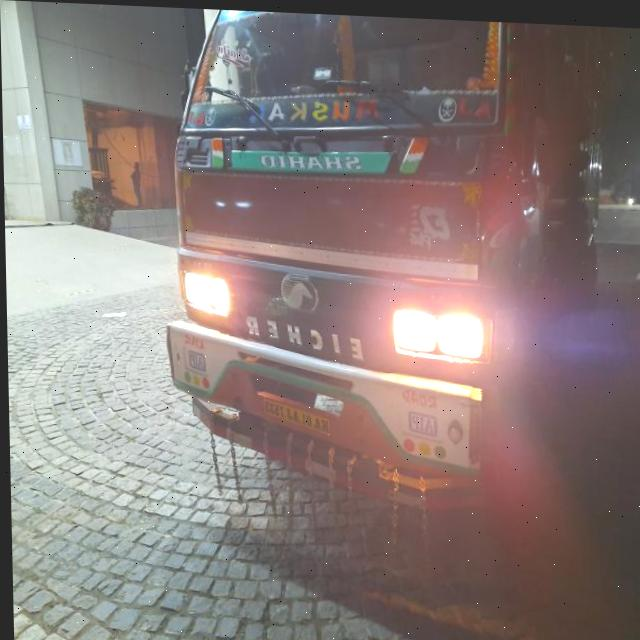plate: (242, 391, 338, 439)
